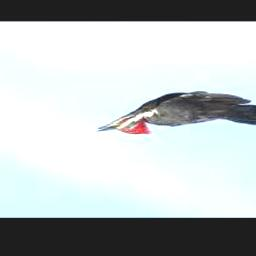Woodpecker: (98, 93, 256, 135)
